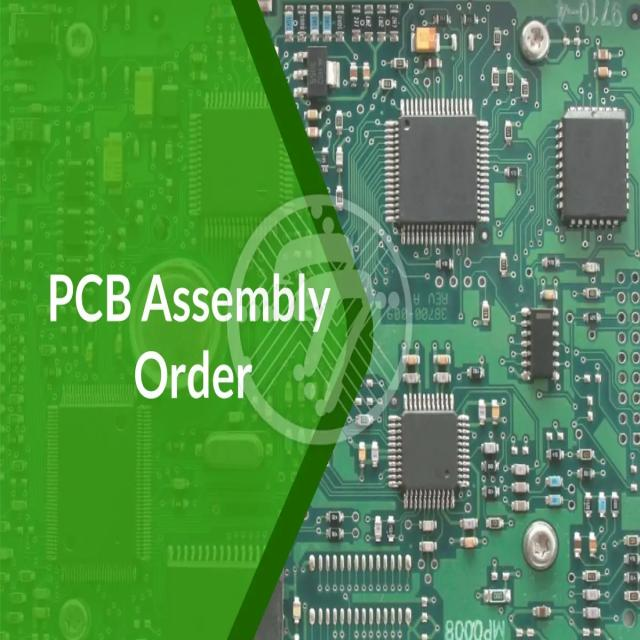pcb: (1, 0, 637, 638), (384, 104, 490, 245)
